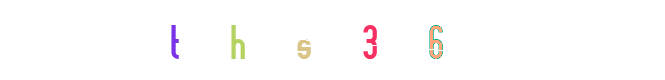3: (331, 0, 411, 80)
6: (395, 0, 475, 80)
H: (280, 0, 360, 80)
S: (292, 0, 372, 80)
T: (134, 0, 214, 80)
